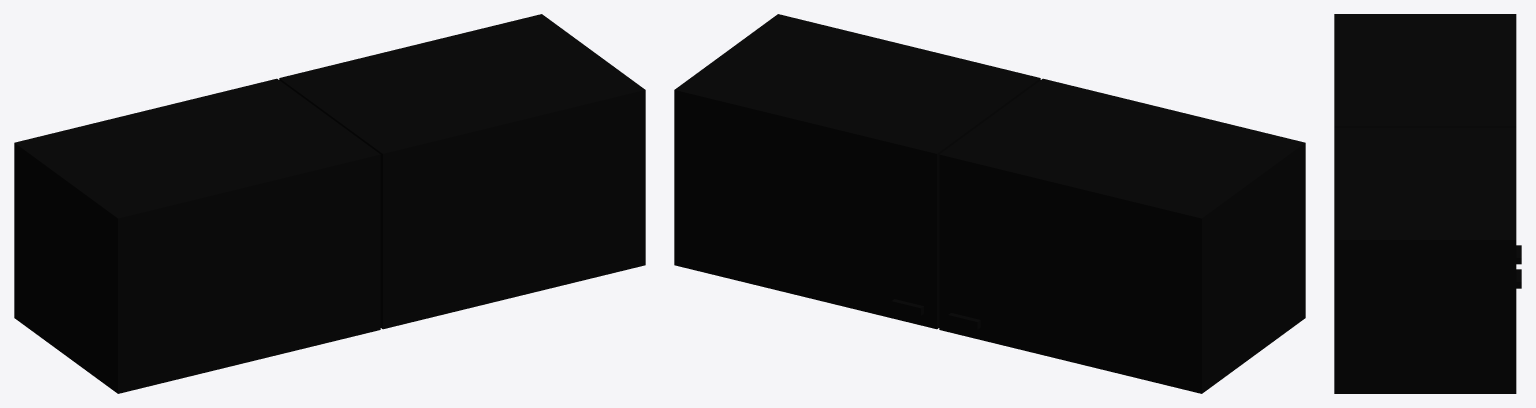
The model's file is KitchenCupboardE.fbx.
3 views of the same model, side by side, from view 1: azimuth 30°, elevation 25°; view 2: azimuth 150°, elevation 25°; view 3: azimuth 270°, elevation 25° (orthographic). The views are drawn at different scales.
Parts seen in each view (by area): view 1: node_id5; view 2: node_id5; view 3: node_id5.
Boxes of the visible parts, x1=… form: node_id5: x1=14, y1=14, x2=645, y2=393; node_id5: x1=674, y1=14, x2=1305, y2=393; node_id5: x1=1334, y1=14, x2=1521, y2=393.
Size of the model in its own units: 0.512 by 0.1627 by 0.1793.
Materials: 1 (1 with a texture image).
